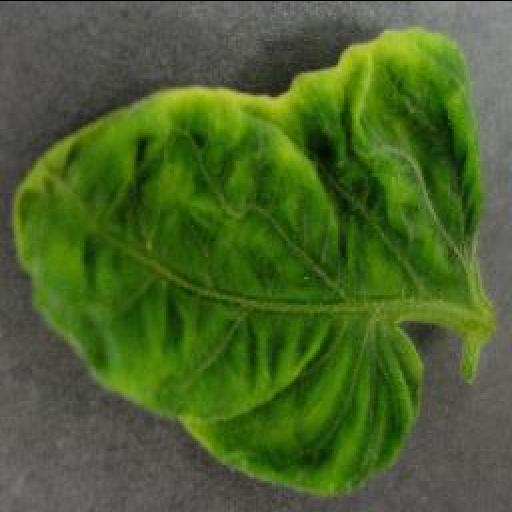disease_tomato: (11, 26, 485, 496)
